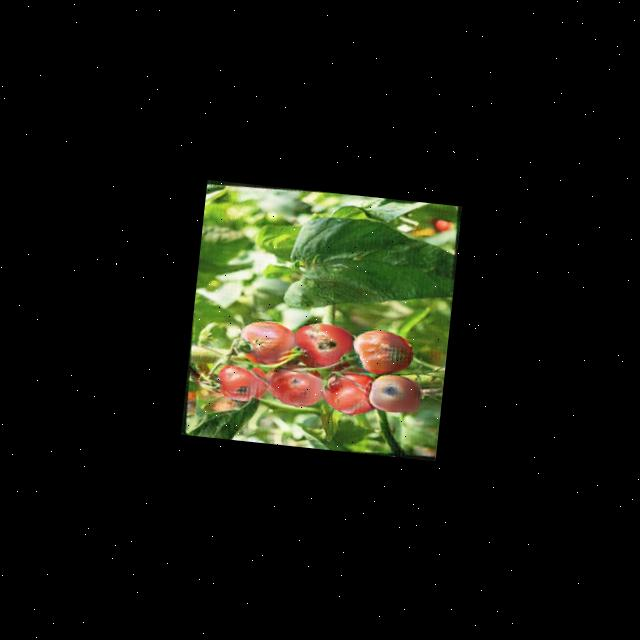tomato: (348, 328, 414, 378), (236, 316, 298, 369), (290, 320, 350, 370), (266, 366, 324, 409), (366, 372, 418, 417), (322, 371, 376, 414), (216, 360, 264, 400)
